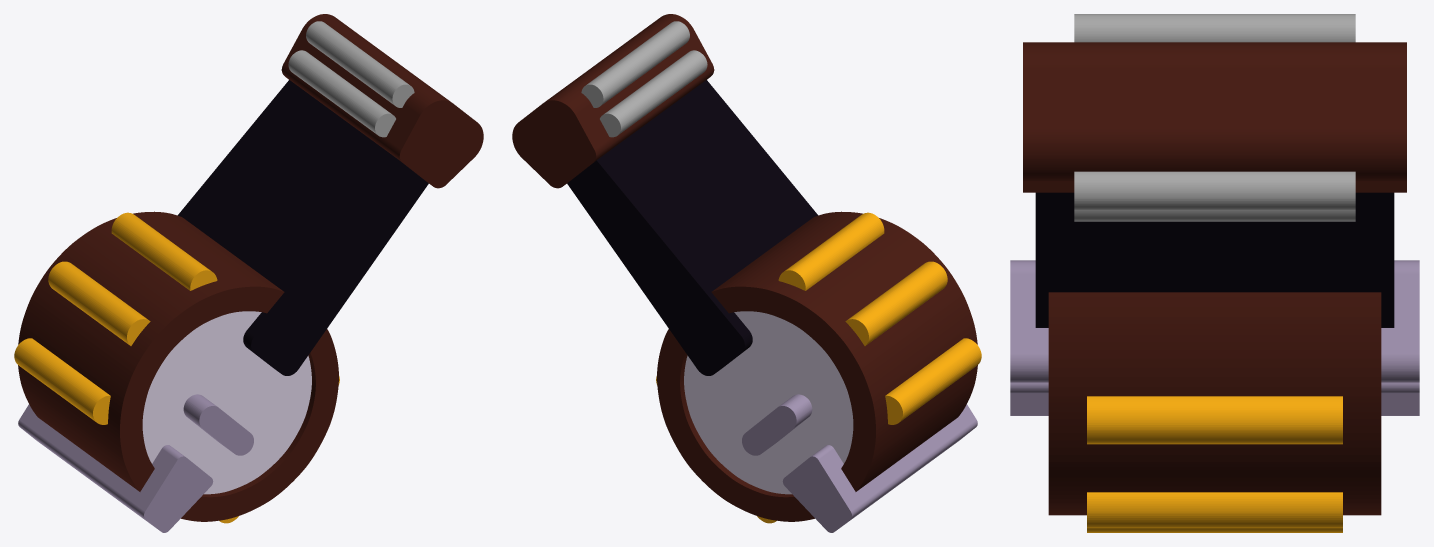
3 views of the same model, side by side, from view 1: azimuth 30°, elevation 25°; view 2: azimuth 150°, elevation 25°; view 3: azimuth 270°, elevation 25° (orthographic). The views are drawn at different scales.
Parts seen in each view (by area): view 1: U+1FA95_layer04_obj00, U+1FA95_layer03_obj00, U+1FA95_layer02_obj00, U+1FA95_layer05_obj00, U+1FA95_layer00_obj00, U+1FA95_layer06_obj00, U+1FA95_layer01_obj00; view 2: U+1FA95_layer04_obj00, U+1FA95_layer03_obj00, U+1FA95_layer02_obj00, U+1FA95_layer05_obj00, U+1FA95_layer00_obj00, U+1FA95_layer06_obj00, U+1FA95_layer01_obj00; view 3: U+1FA95_layer03_obj00, U+1FA95_layer05_obj00, U+1FA95_layer04_obj00, U+1FA95_layer00_obj00, U+1FA95_layer01_obj00, U+1FA95_layer06_obj00.
Boxes of the visible parts, left/top/right/bottom form: U+1FA95_layer04_obj00: left=177, top=80, right=428, bottom=375; U+1FA95_layer03_obj00: left=18, top=211, right=338, bottom=521; U+1FA95_layer02_obj00: left=142, top=311, right=311, bottom=494; U+1FA95_layer05_obj00: left=281, top=14, right=483, bottom=188; U+1FA95_layer00_obj00: left=14, top=212, right=339, bottom=523; U+1FA95_layer06_obj00: left=18, top=394, right=253, bottom=532; U+1FA95_layer01_obj00: left=288, top=21, right=414, bottom=137; U+1FA95_layer04_obj00: left=567, top=80, right=818, bottom=375; U+1FA95_layer03_obj00: left=657, top=211, right=977, bottom=521; U+1FA95_layer02_obj00: left=684, top=311, right=853, bottom=494; U+1FA95_layer05_obj00: left=512, top=14, right=714, bottom=188; U+1FA95_layer00_obj00: left=656, top=212, right=981, bottom=523; U+1FA95_layer06_obj00: left=742, top=394, right=977, bottom=532; U+1FA95_layer01_obj00: left=581, top=21, right=707, bottom=137; U+1FA95_layer03_obj00: left=1048, top=292, right=1381, bottom=515; U+1FA95_layer05_obj00: left=1023, top=42, right=1406, bottom=192; U+1FA95_layer04_obj00: left=1035, top=192, right=1394, bottom=327; U+1FA95_layer00_obj00: left=1087, top=396, right=1342, bottom=532; U+1FA95_layer01_obj00: left=1074, top=14, right=1355, bottom=221; U+1FA95_layer06_obj00: left=1010, top=260, right=1419, bottom=415.
Size of the model in its own units: 0.5582 by 0.5607 by 0.32.
